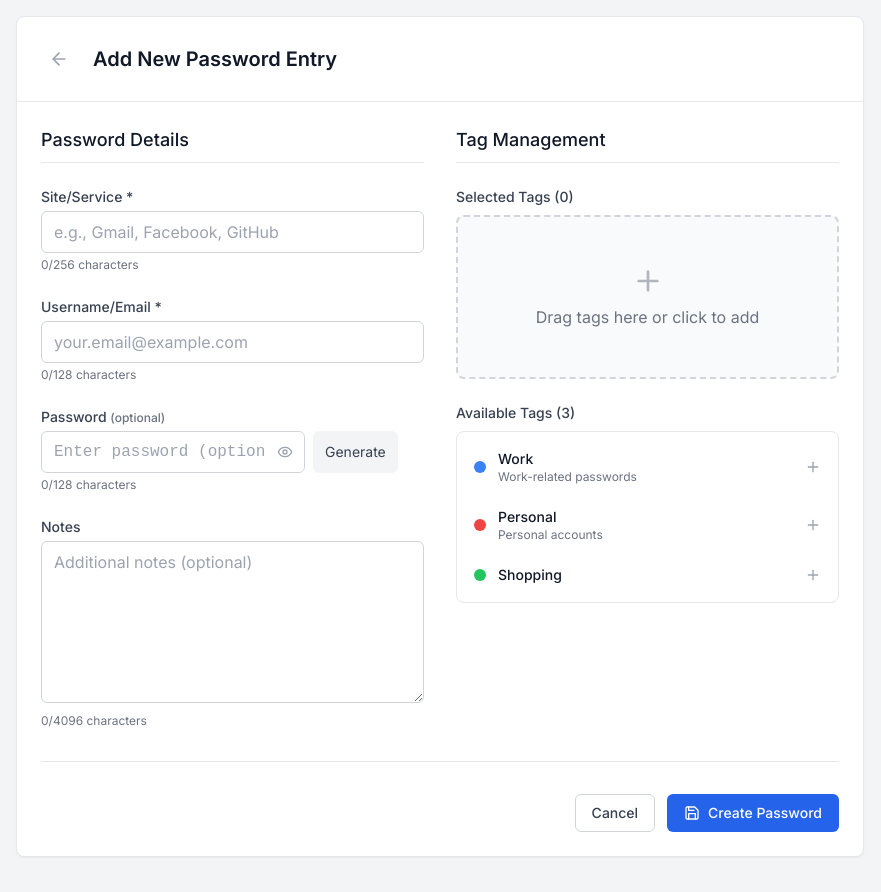
PasswordEdit Component › should disable submit button when validation fails
Type "Existing Site" into the field labelled "Site/Service *" at coordinates (232, 232), box [41, 211, 424, 253]
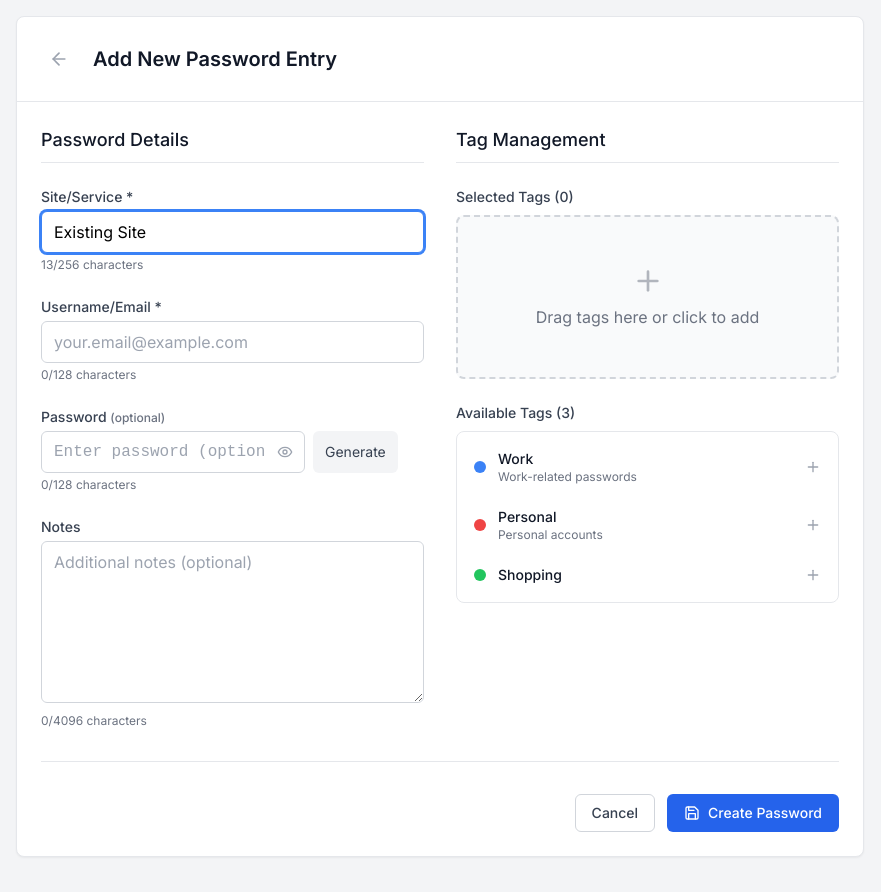
Type "existing@example.com" into the field labelled "Username/Email *" at coordinates (232, 342), box [41, 321, 424, 363]
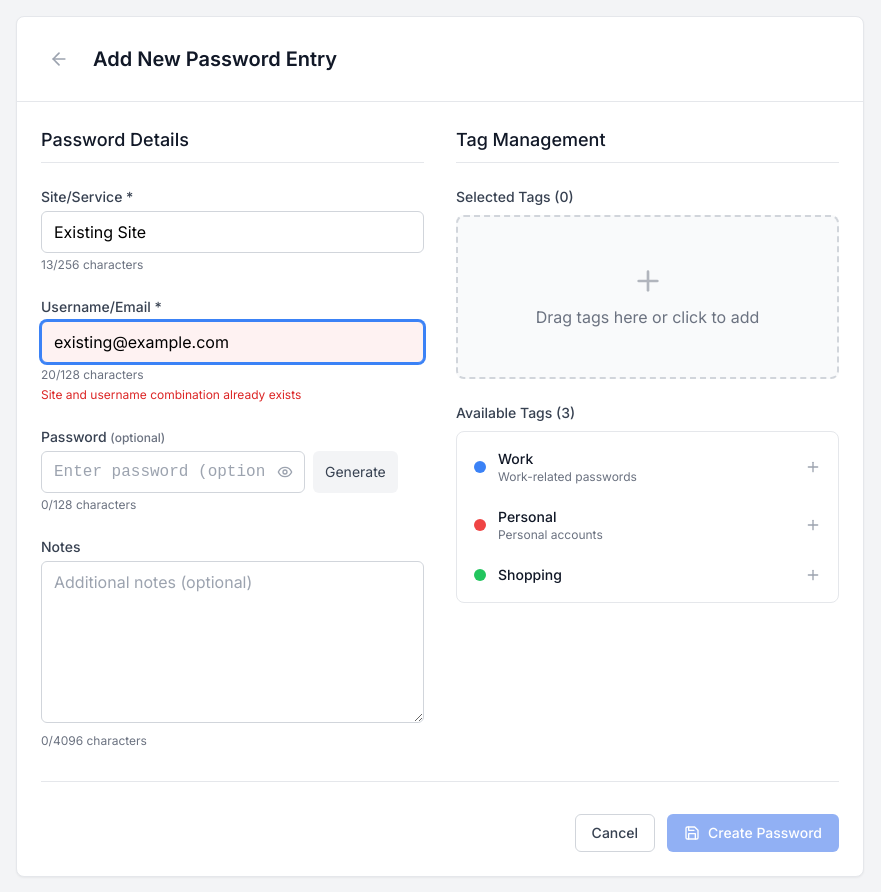
Result: the button "Create Password" is disabled at [667, 814, 839, 852]
